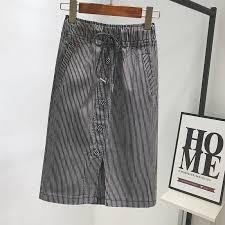skirt: (40, 16, 162, 208)
